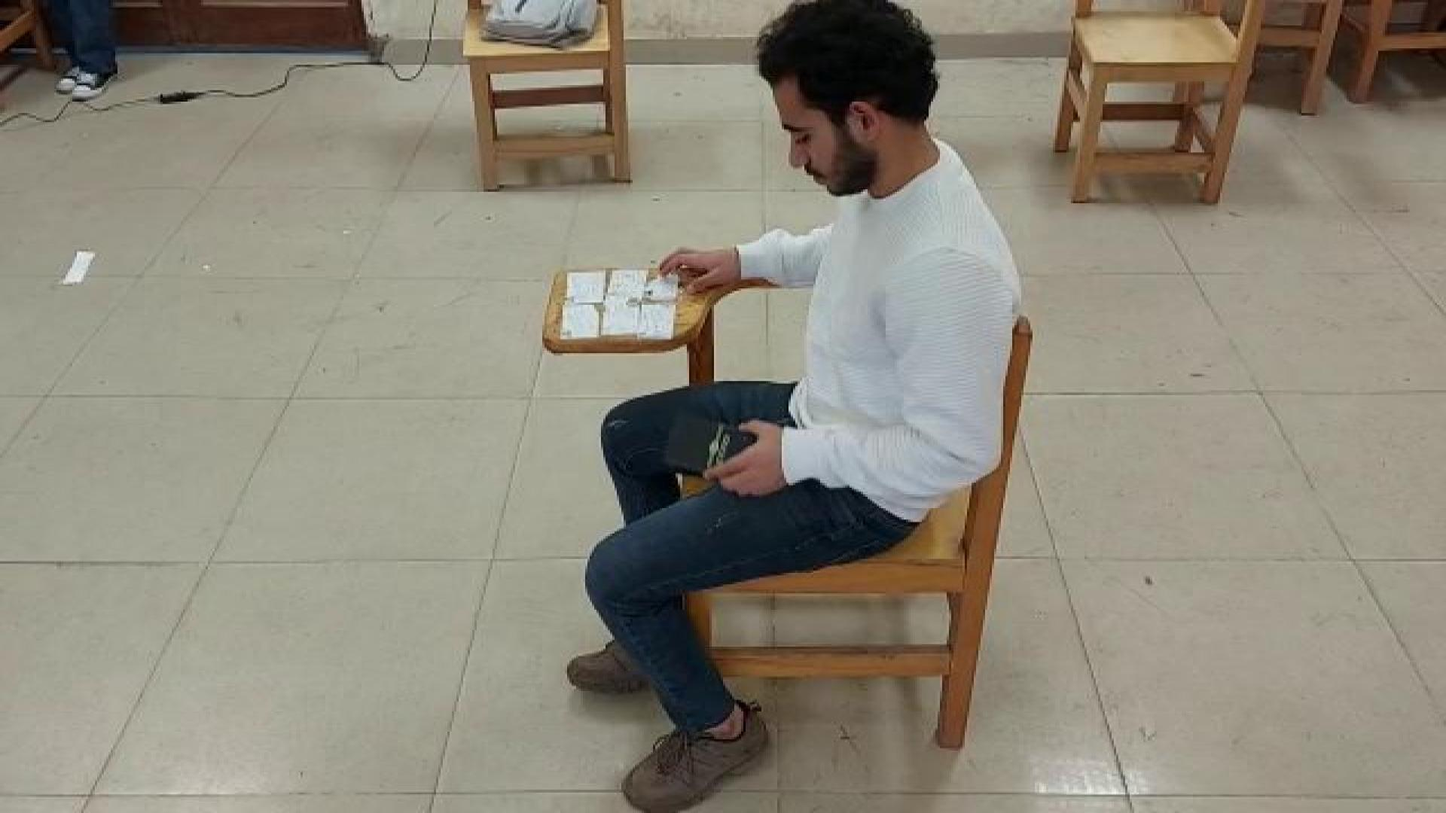phone: (660, 409, 764, 474)
